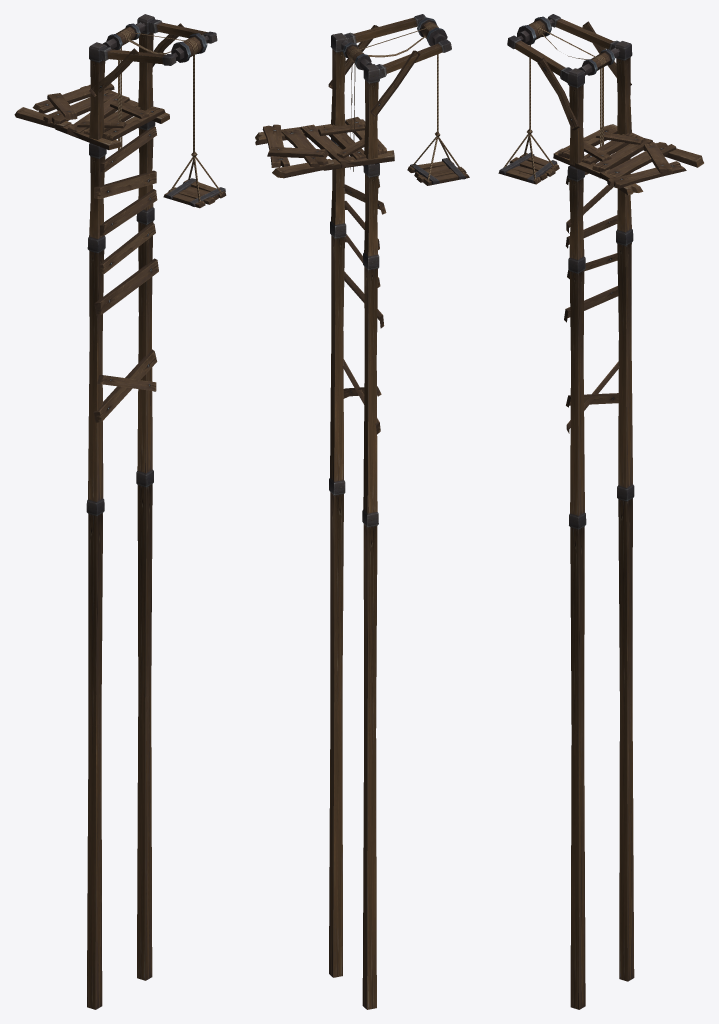
File: 6001_Item_daolu_4.FBX
3 renders of one model, left to right at view 1: azimuth 90°, elevation 25°; view 2: azimuth 150°, elevation 25°; view 3: azimuth 270°, elevation 25°, orthographic. The views are drawn at different scales.
Visible parts, largest first — view 1: 6001_Item_daolu_4; view 2: 6001_Item_daolu_4; view 3: 6001_Item_daolu_4.
Boxes of the visible parts, box(x1,y1,x2,y2) form: 6001_Item_daolu_4: box(14, 14, 226, 1009); 6001_Item_daolu_4: box(255, 14, 469, 1009); 6001_Item_daolu_4: box(498, 14, 703, 1009).
Size of the model in its own units: 546 by 3059 by 602.
